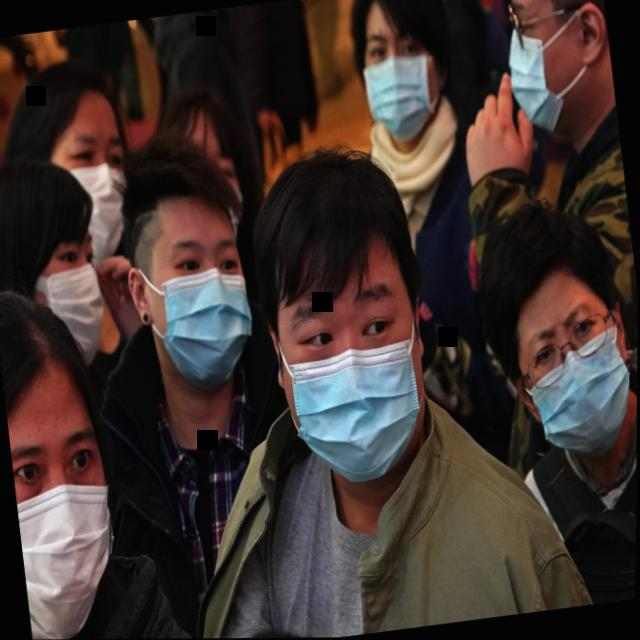Mask: (237, 137, 450, 505), (0, 277, 143, 640), (473, 193, 639, 474), (107, 131, 265, 415), (4, 56, 142, 280), (0, 159, 121, 387), (494, 0, 619, 151), (338, 0, 463, 150)
